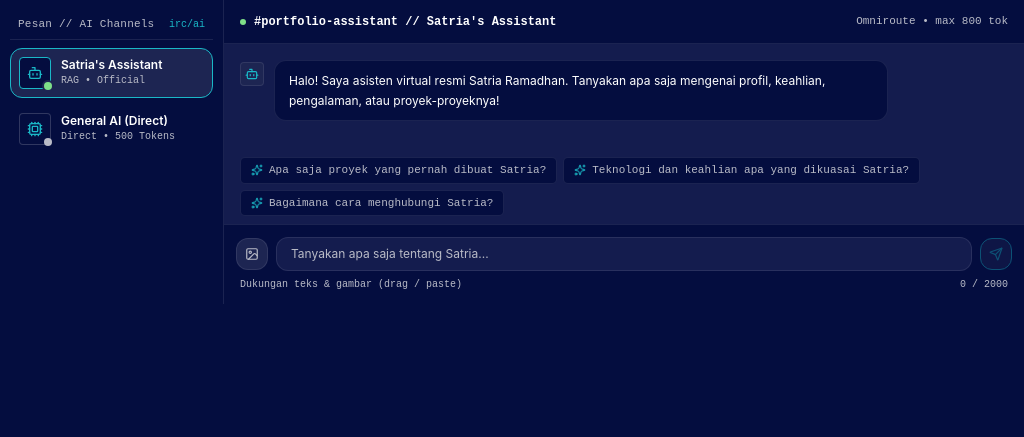
Test case: MessageApp Component RTL Tests › shows error banner and retry button on fetch failure
In the field with test id "chat-input": (624, 254) [276, 237, 972, 271], type "Halo Satria"
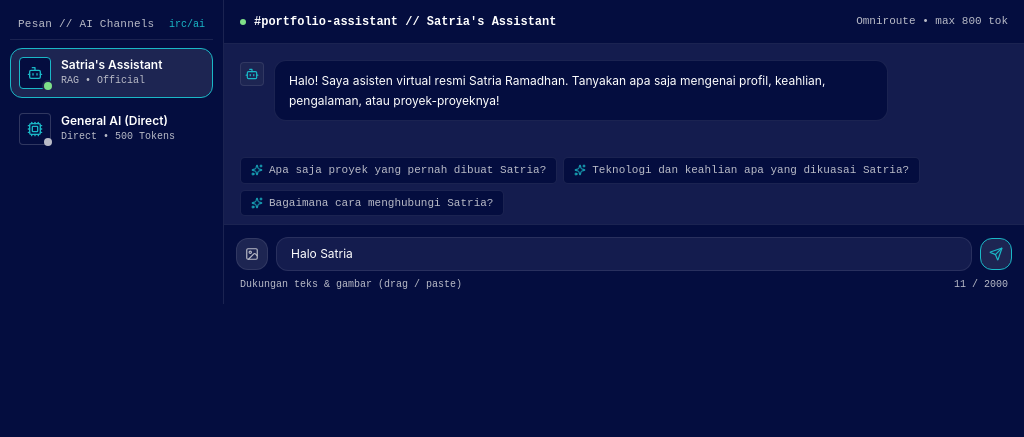
Click the button with test id "chat-send-btn": (996, 254) [980, 238, 1012, 270]
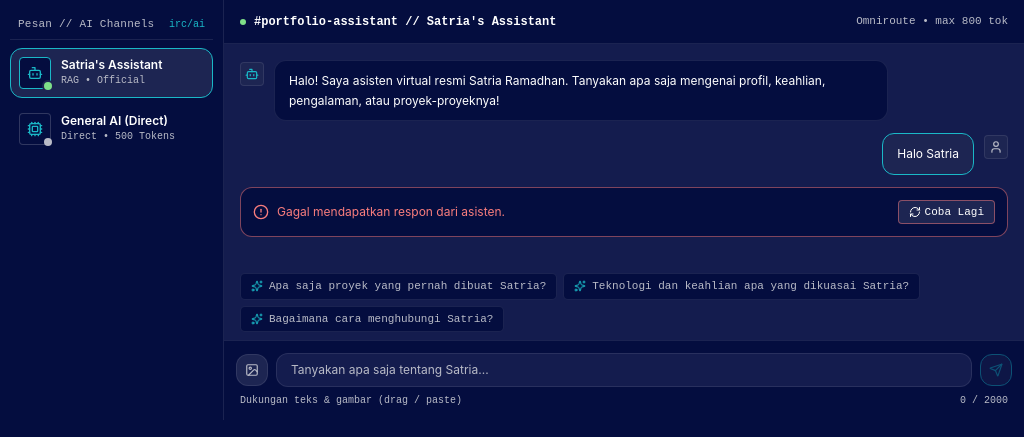
Now the element with test id "chat-error-banner" is shown, box [240, 186, 1008, 237]
Now the button with test id "chat-retry-btn" is shown
Click the button with test id "chat-retry-btn": (946, 212) [898, 200, 995, 224]
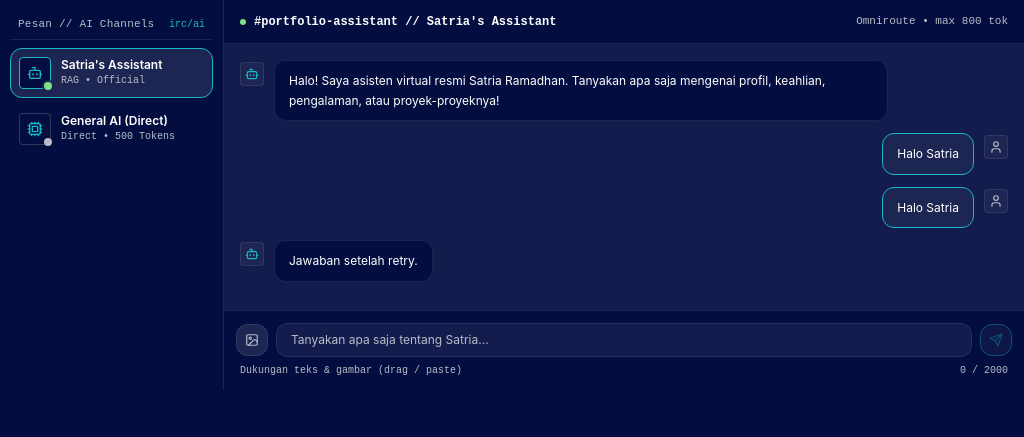
Now the text "Jawaban setelah retry." is shown, box [289, 251, 418, 270]
